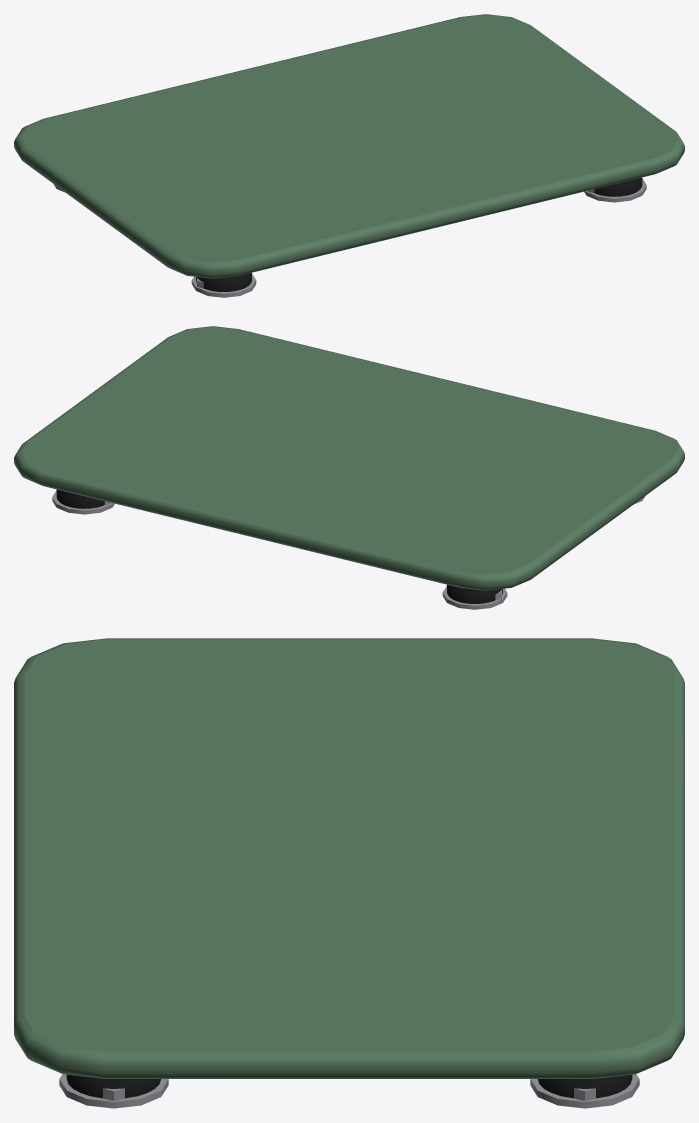
File: t10_mounts.obj
3 renders of one model, top to bottom at view 1: azimuth 30°, elevation 25°; view 2: azimuth 150°, elevation 25°; view 3: azimuth 270°, elevation 25°, orthographic. The views are drawn at different scales.
Visible parts, largest first — view 1: t10_mounts; view 2: t10_mounts; view 3: t10_mounts.
Part boxes in pixels (x1,y1,x2,y2): t10_mounts: (14,14,684,297); t10_mounts: (14,326,684,609); t10_mounts: (14,638,684,1108).
Size of the model in its own units: 2.74 by 0.24 by 1.85.
